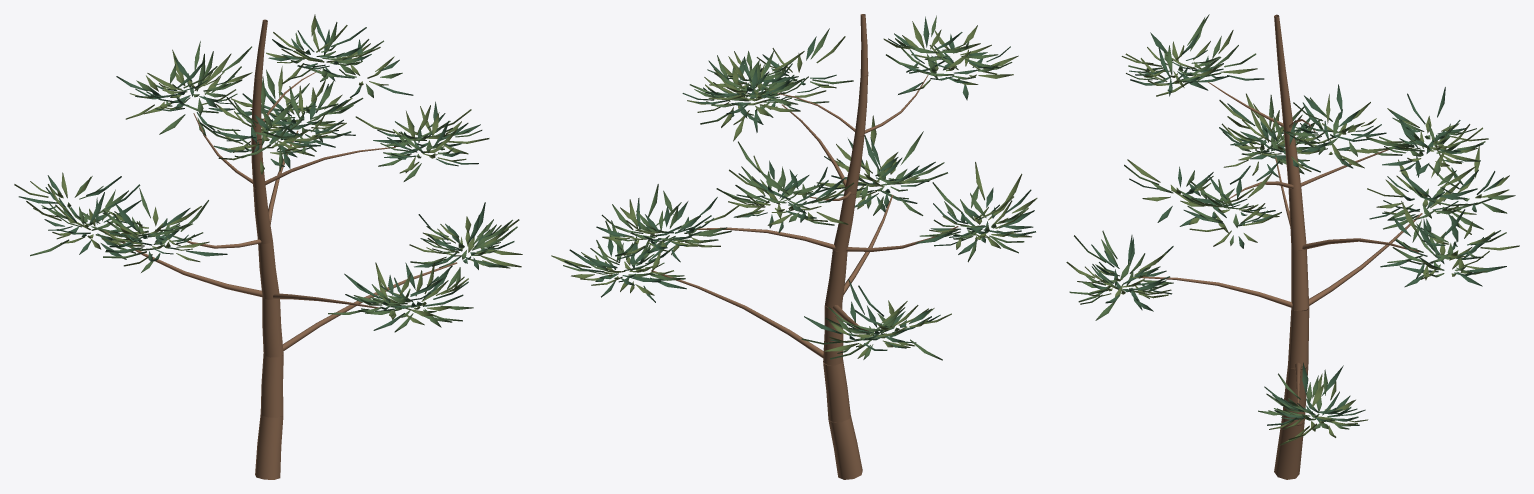
Rendered from Pin_Laricio_0_Low.fbx.
3 views of the same model, side by side, from view 1: azimuth 30°, elevation 25°; view 2: azimuth 150°, elevation 25°; view 3: azimuth 270°, elevation 25° (orthographic).
Visible parts, largest first — view 1: Pin_Laricio_0_Low; view 2: Pin_Laricio_0_Low; view 3: Pin_Laricio_0_Low.
Boxes of the visible parts, x1,y1,x2,y2 form: Pin_Laricio_0_Low: [14, 14, 522, 479]; Pin_Laricio_0_Low: [551, 14, 1037, 479]; Pin_Laricio_0_Low: [1066, 14, 1519, 479].
Bounding box in the file's own units: 758 × 744 × 671.
